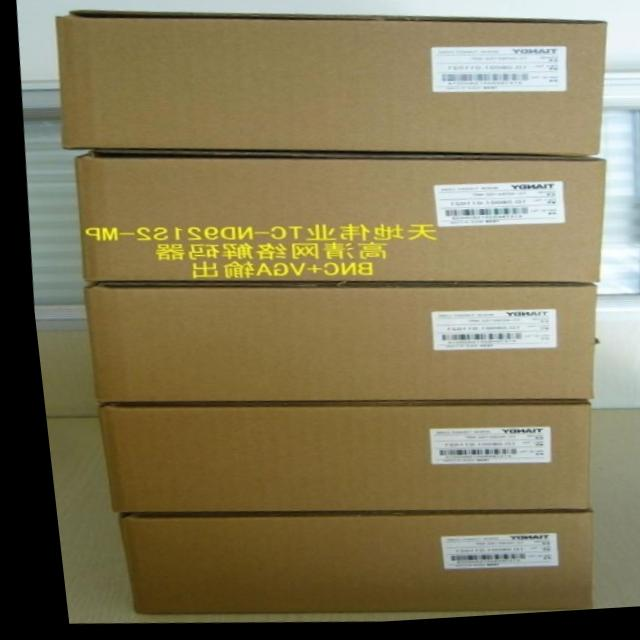box: (55, 13, 610, 163), (73, 149, 602, 292), (82, 284, 586, 407), (90, 404, 585, 520), (100, 514, 578, 615)
